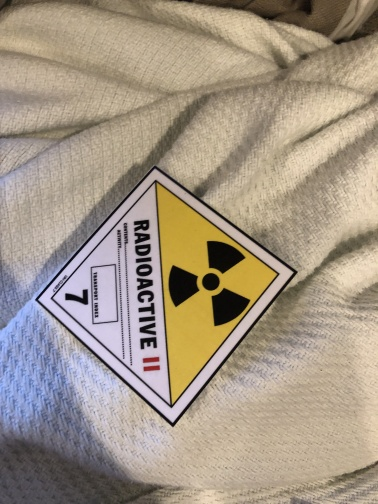Radioactive: (37, 167, 295, 425)
